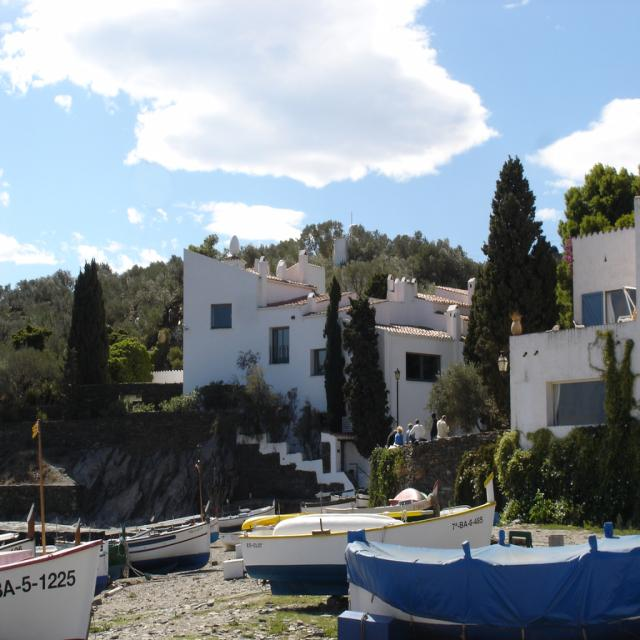Boat: (348, 522, 640, 640), (240, 473, 496, 598), (0, 544, 101, 639), (16, 532, 110, 594), (127, 526, 210, 572)
